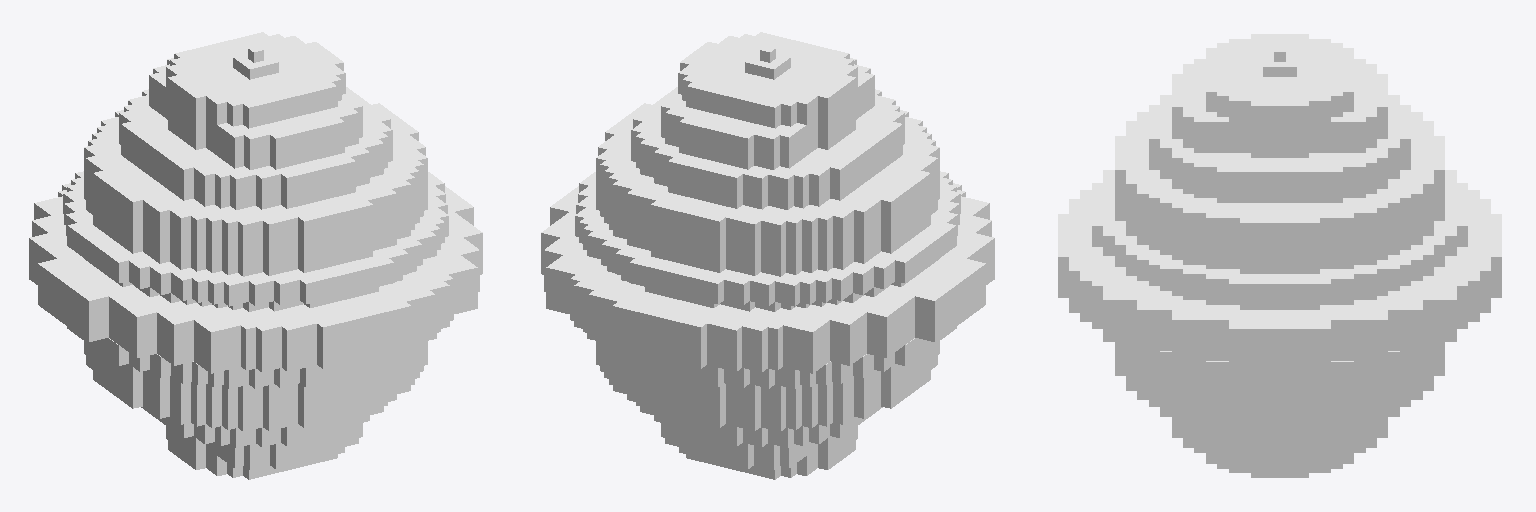
File: bola.obj
3 views of the same model, side by side, from view 1: azimuth 30°, elevation 25°; view 2: azimuth 150°, elevation 25°; view 3: azimuth 270°, elevation 25° (orthographic).
Visible parts, largest first — view 1: object 1; view 2: object 1; view 3: object 1.
Part boxes in pixels (x1,y1,x2,y2): object 1: (29, 32, 482, 479); object 1: (541, 32, 994, 479); object 1: (1058, 34, 1501, 477).
Size of the model in its own units: 3.9 by 4 by 3.9.